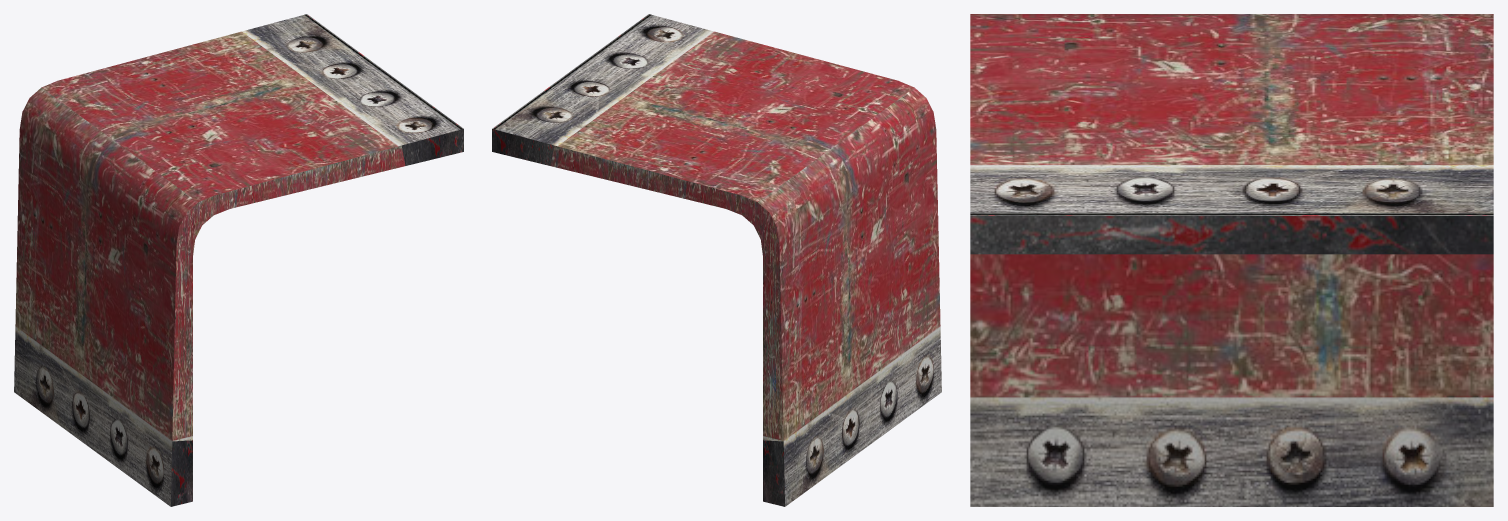
Rendered from MOD_WallProtect_50.FBX.
3 views of the same model, side by side, from view 1: azimuth 30°, elevation 25°; view 2: azimuth 150°, elevation 25°; view 3: azimuth 270°, elevation 25° (orthographic). The views are drawn at different scales.
Parts seen in each view (by area): view 1: MOD_WallProtect_50; view 2: MOD_WallProtect_50; view 3: MOD_WallProtect_50.
Part boxes in pixels (x1=…): MOD_WallProtect_50: x1=14, y1=14, x2=463, y2=506; MOD_WallProtect_50: x1=492, y1=14, x2=941, y2=506; MOD_WallProtect_50: x1=970, y1=14, x2=1493, y2=506.
Size of the model in its own units: 54.07 by 54.07 by 50.12.
1 material, 1 textured.
